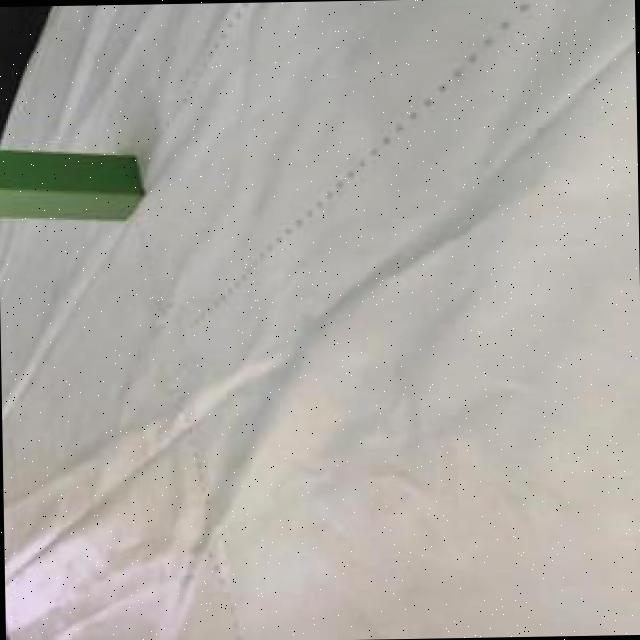greenbox: (0, 149, 148, 222)
